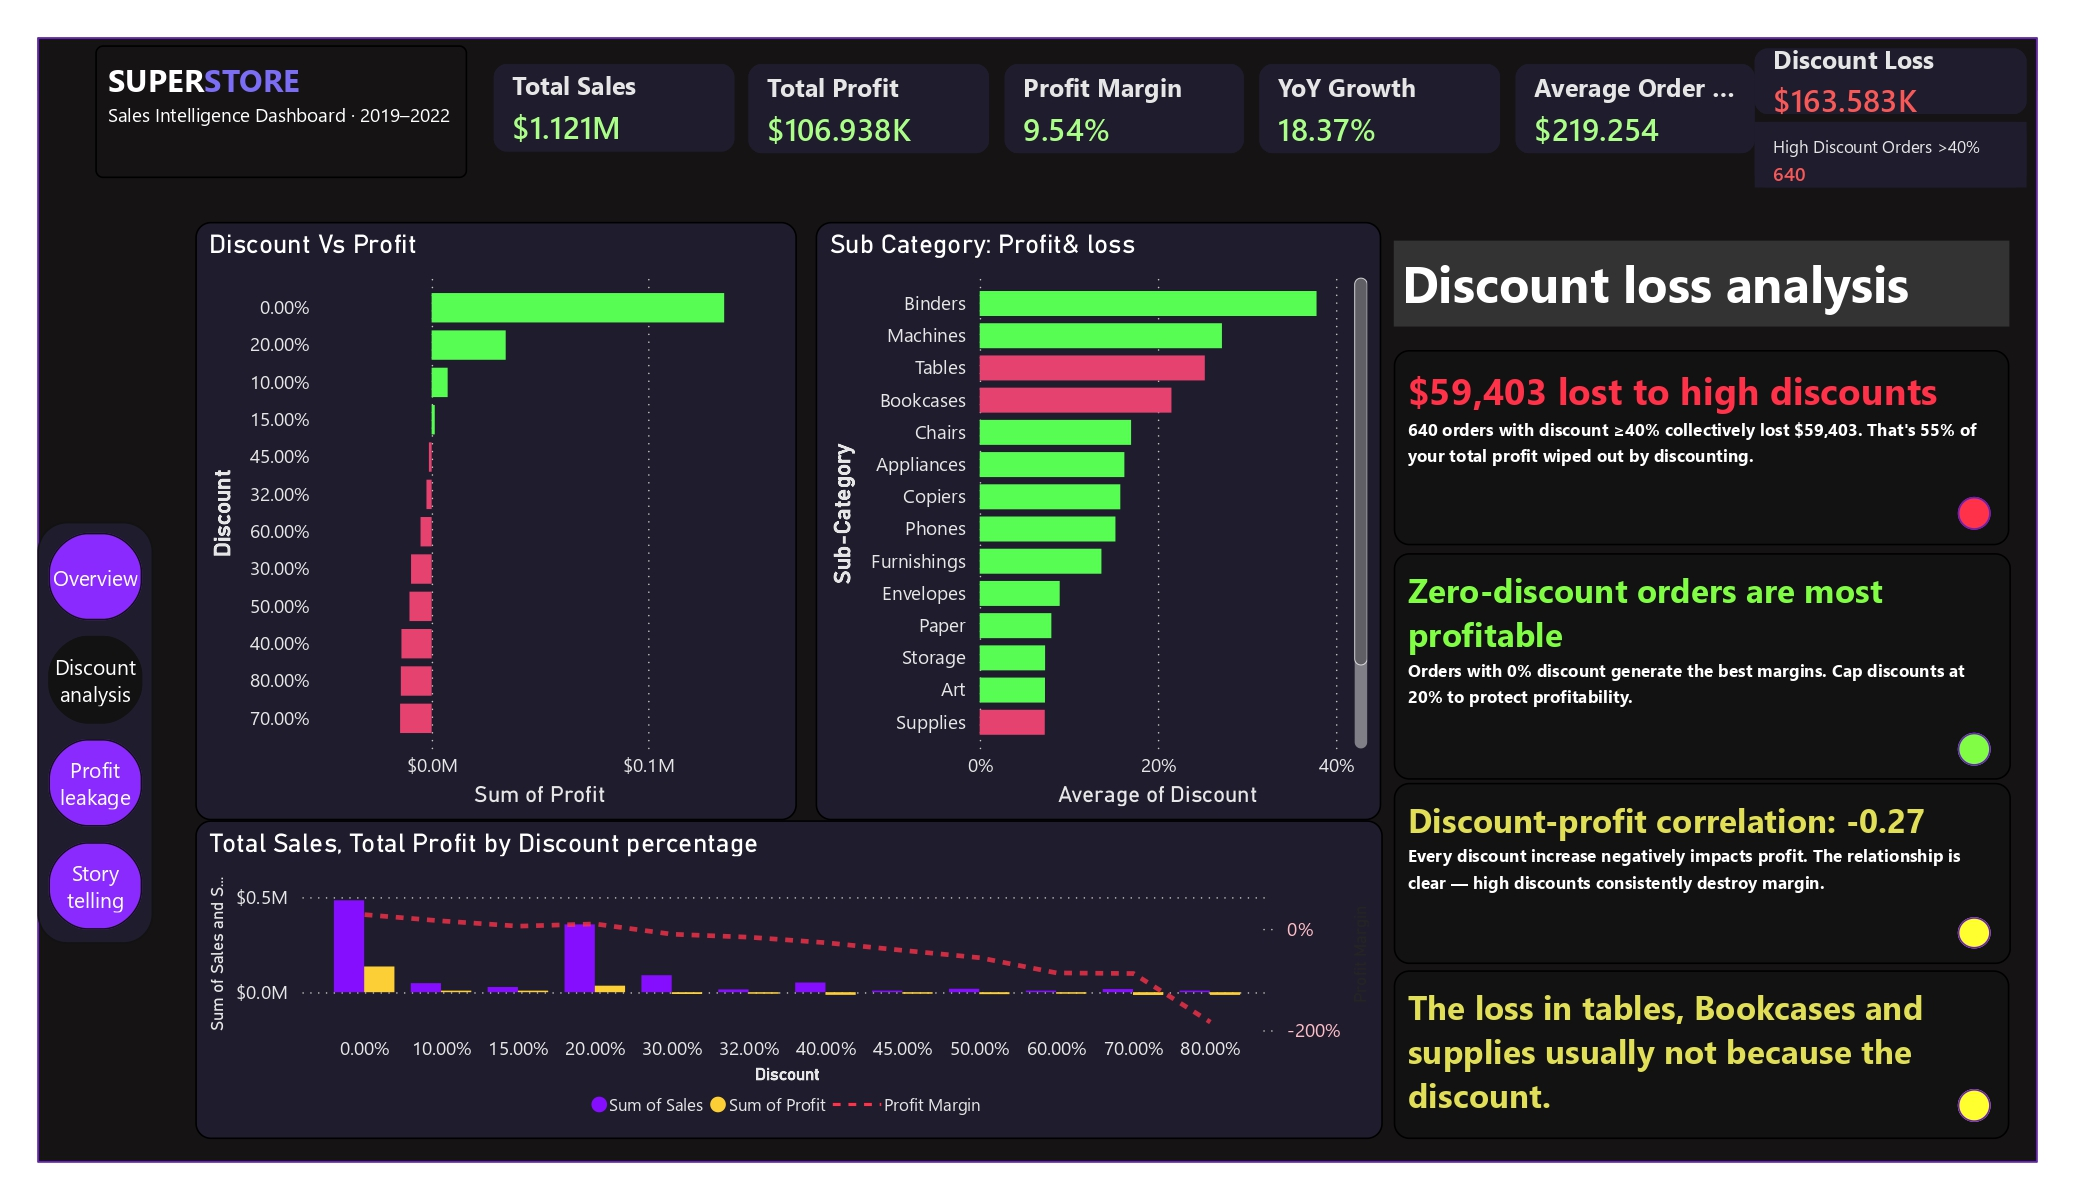

The dashboard page shown, as its layout file describes it:
{"tool":"powerbi","page":{"name":"Discount analysis","canvas":[1280,720],"ordinal":1},"visuals":[{"type":"cardVisual","fields":{"Data":["Orders.Total Sales"]},"box":[275,0.1,187.7,90.4],"z":0},{"type":"lineClusteredColumnComboChart","title":"Total Sales, Total Profit  by Discount percentage","fields":{"Y":["Sum(Orders.Sales)","Sum(Orders.Profit)"],"Category":["Orders.Discount"],"Y2":["Orders.Profit Margin"]},"box":[101.2,500.6,759.4,204.2],"z":1000},{"type":"cardVisual","fields":{"Data":["Orders.Total Profit"]},"box":[438.4,0.1,187.7,90.4],"z":2000},{"type":"cardVisual","fields":{"Data":["Orders.Profit Margin"]},"box":[601.8,0.1,187.7,90.4],"z":3000},{"type":"cardVisual","fields":{"Data":["Orders.YoY Growth"]},"box":[765.2,0.1,187.7,90.4],"z":4000},{"type":"cardVisual","fields":{"Data":["Orders.Discount Loss","Orders.High Discount Orders"]},"box":[1091.8,0,188.2,103.6],"z":5000},{"type":"cardVisual","fields":{"Data":["Orders.Average Order Value"]},"box":[928.7,0.1,187.7,90.4],"z":6000},{"type":"barChart","title":"Discount Vs Profit","fields":{"Category":["Orders.Discount"],"Y":["Sum(Orders.Profit)"]},"box":[101.1,117.9,384.5,382.7],"z":7000},{"type":"textbox","box":[37.3,5.5,238.2,84.5],"z":8000},{"type":"barChart","title":"Sub Category: Profit& loss","fields":{"Category":["Orders.Sub-Category"],"Y":["Avg(Orders.Discount)"]},"box":[498.4,117.9,361.8,382.7],"z":9000},{"type":"textbox","box":[867.7,200,394.5,124.5],"z":10000},{"type":"textbox","box":[867.7,130,394.5,54.5],"z":11000},{"type":"shape","box":[1228.6,293.7,20.9,20.9],"z":12000},{"type":"textbox","box":[867.9,477.3,394.5,116.4],"z":12000,"group":"g1"},{"type":"textbox","box":[867.9,330.4,394.5,145.5],"z":13000,"group":"g2"},{"type":"textbox","box":[867.7,597.3,394.5,108.2],"z":13000},{"type":"shape","box":[1228.6,672.9,20.9,20.9],"z":14000},{"type":"group","id":"g1","title":"Group 1","box":[867.9,477.3,394,116.4],"z":15000},{"type":"shape","box":[1228.8,562.8,20.9,20.9],"z":15000,"group":"g1"},{"type":"group","id":"g2","title":"Group 2","box":[867.9,330.4,394,145.1],"z":16000},{"type":"shape","box":[1228.8,445.6,20.9,20.9],"z":16000,"group":"g2"},{"type":"pageNavigator","box":[0,309.9,74.3,270.4],"z":17000}]}

Visuals, with their boxes on the page's 1280x720 design canvas (x1, y1, x2, y2). These are canvas units, not pixel positions in the 2075x1200 screenshot, which may show the page scaled, cropped or inside an application window:
cardVisual - Orders.Total Sales: x1=275, y1=0, x2=463, y2=90
"Total Sales, Total Profit  by Discount percentage" lineClusteredColumnComboChart: x1=101, y1=501, x2=861, y2=705
cardVisual - Orders.Total Profit: x1=438, y1=0, x2=626, y2=90
cardVisual - Orders.Profit Margin: x1=602, y1=0, x2=790, y2=90
cardVisual - Orders.YoY Growth: x1=765, y1=0, x2=953, y2=90
cardVisual - Orders.Discount Loss x Orders.High Discount Orders: x1=1092, y1=0, x2=1280, y2=104
cardVisual - Orders.Average Order Value: x1=929, y1=0, x2=1116, y2=90
"Discount Vs Profit" barChart: x1=101, y1=118, x2=486, y2=501
textbox: x1=37, y1=6, x2=276, y2=90
"Sub Category: Profit& loss" barChart: x1=498, y1=118, x2=860, y2=501
textbox: x1=868, y1=200, x2=1262, y2=324
textbox: x1=868, y1=130, x2=1262, y2=184
shape: x1=1229, y1=294, x2=1250, y2=315
textbox: x1=868, y1=477, x2=1262, y2=594
textbox: x1=868, y1=330, x2=1262, y2=476
textbox: x1=868, y1=597, x2=1262, y2=706
shape: x1=1229, y1=673, x2=1250, y2=694
"Group 1" group: x1=868, y1=477, x2=1262, y2=594
shape: x1=1229, y1=563, x2=1250, y2=584
"Group 2" group: x1=868, y1=330, x2=1262, y2=476
shape: x1=1229, y1=446, x2=1250, y2=466
pageNavigator: x1=0, y1=310, x2=74, y2=580
